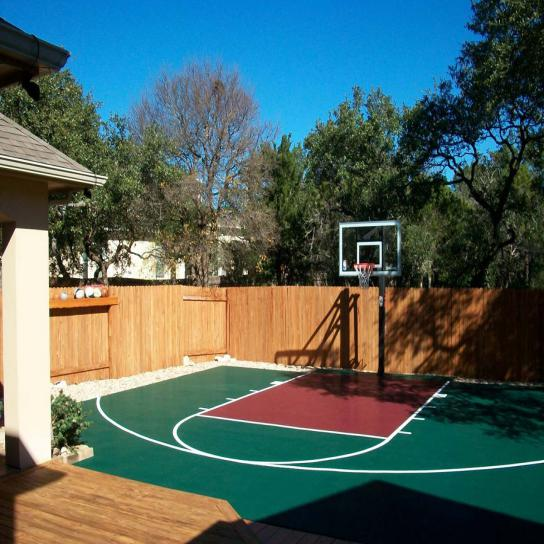basketball-hoop: (353, 260, 375, 290)
